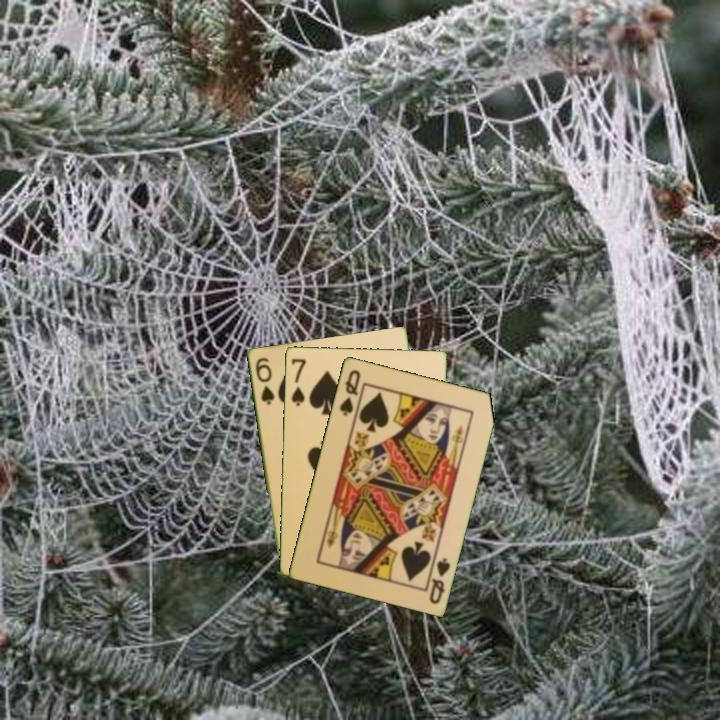6s: (252, 354, 277, 407)
7s: (287, 355, 308, 408)
Qs: (423, 551, 453, 606), (336, 366, 363, 419)
